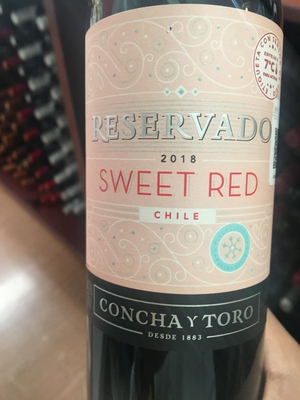reservado sweet red: (79, 8, 278, 400)
